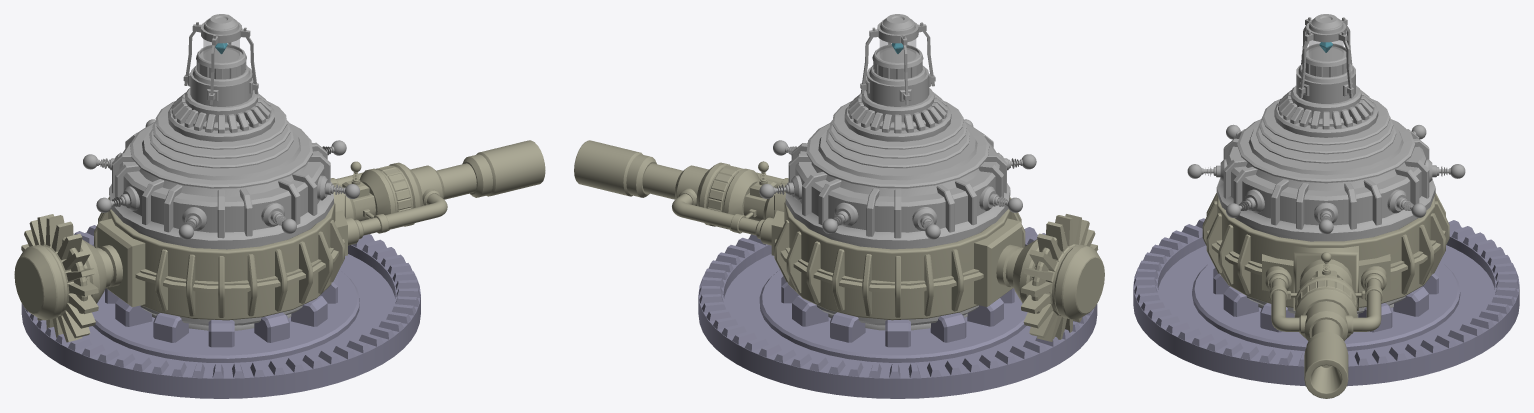
The model's file is tower4_low_final.fbx.
3 views of the same model, side by side, from view 1: azimuth 30°, elevation 25°; view 2: azimuth 150°, elevation 25°; view 3: azimuth 270°, elevation 25° (orthographic). The views are drawn at different scales.
Visible parts, largest first — view 1: tower4_body_low, tower4_base_low, tower4_barrel_low, tower4_barrel_wheel_low, feet_low, anten_low; view 2: tower4_body_low, tower4_base_low, tower4_barrel_low, tower4_barrel_wheel_low, feet_low, anten_low; view 3: tower4_base_low, tower4_body_low, tower4_barrel_low, anten_low, feet_low, cube_low.
Boxes of the visible parts, bbox=[...] form: tower4_body_low: bbox=[109, 14, 333, 330]; tower4_base_low: bbox=[21, 225, 420, 398]; tower4_barrel_low: bbox=[94, 140, 545, 320]; tower4_barrel_wheel_low: bbox=[14, 214, 122, 342]; feet_low: bbox=[105, 276, 337, 347]; anten_low: bbox=[83, 119, 359, 239]; tower4_body_low: bbox=[785, 14, 1010, 330]; tower4_base_low: bbox=[698, 227, 1097, 398]; tower4_barrel_low: bbox=[574, 140, 1025, 320]; tower4_barrel_wheel_low: bbox=[996, 214, 1104, 341]; feet_low: bbox=[781, 276, 1014, 347]; anten_low: bbox=[759, 119, 1036, 239]; tower4_base_low: bbox=[1133, 218, 1519, 386]; tower4_body_low: bbox=[1216, 14, 1435, 317]; tower4_barrel_low: bbox=[1202, 193, 1449, 398]; anten_low: bbox=[1187, 124, 1465, 234]; feet_low: bbox=[1213, 268, 1438, 332]; cube_low: bbox=[1262, 254, 1390, 292].
Bounding box in the file's own units: 1086 × 607 × 742.
